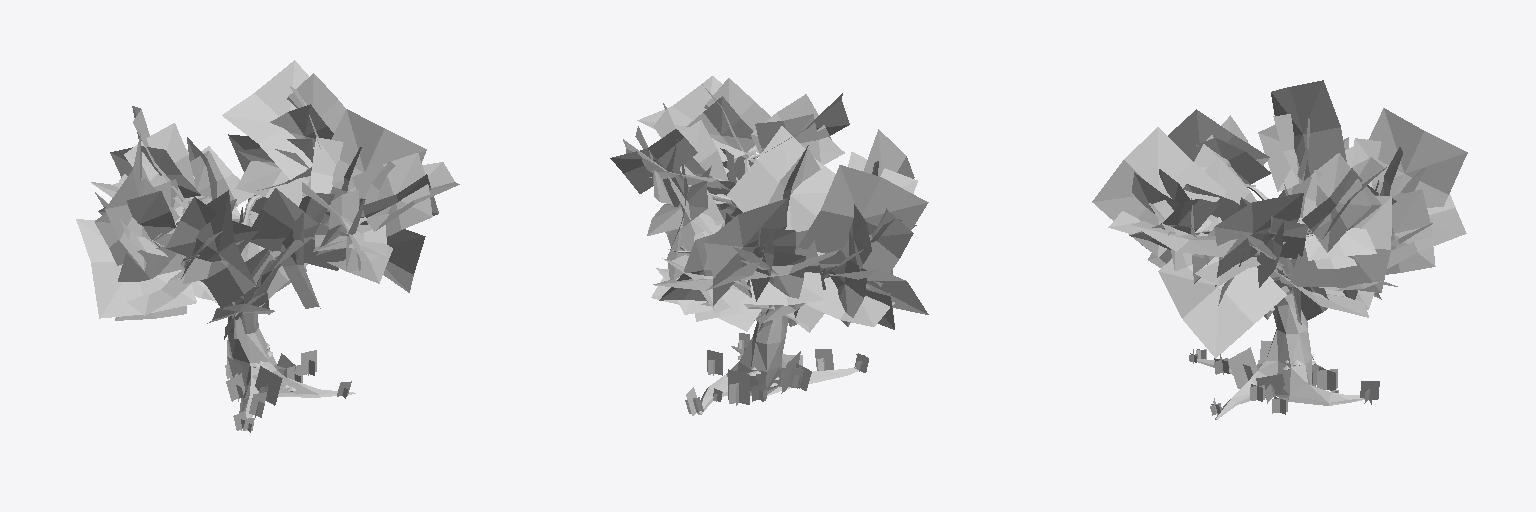
The model's file is tree.obj.
The picture shows the model from 3 angles: view 1: azimuth 30°, elevation 25°; view 2: azimuth 150°, elevation 25°; view 3: azimuth 270°, elevation 25°; orthographic projection.
Parts seen in each view (by area): view 1: BaseTree; view 2: BaseTree; view 3: BaseTree.
Boxes of the visible parts, box(x1,y1,x2,y2) form: BaseTree: box(76, 60, 459, 432); BaseTree: box(610, 76, 928, 415); BaseTree: box(1092, 80, 1467, 419).
Size of the model in its own units: 13.98 by 11.29 by 14.31.